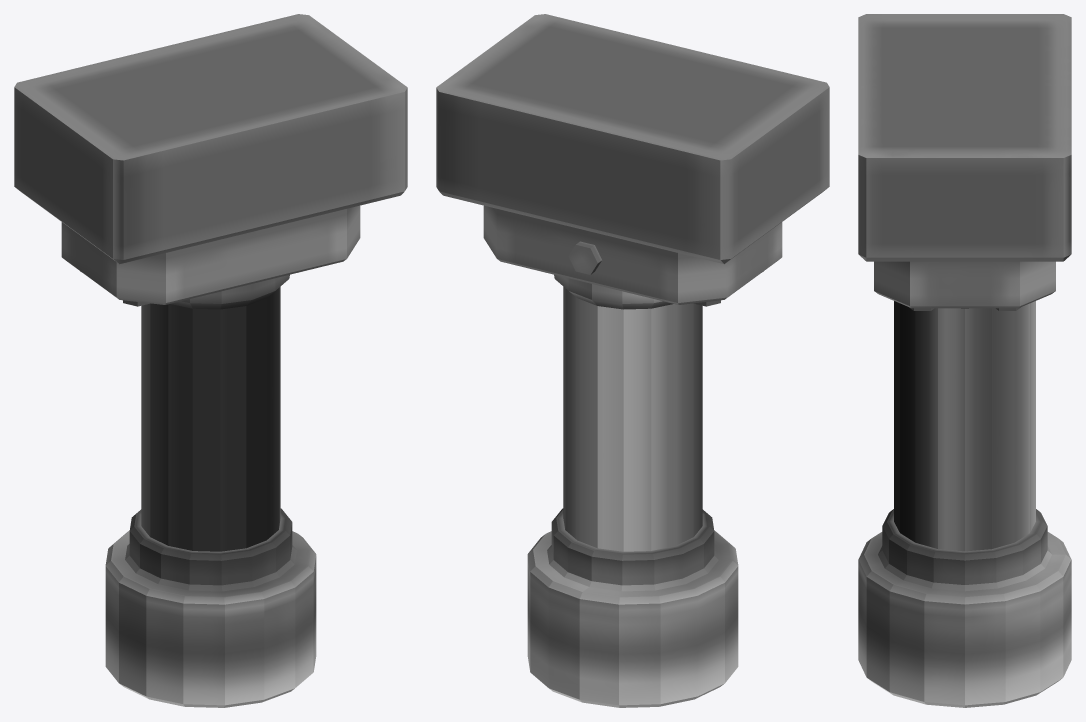
The model's file is crusher_1wide_1.fbx.
3 renders of one model, left to right at view 1: azimuth 30°, elevation 25°; view 2: azimuth 150°, elevation 25°; view 3: azimuth 270°, elevation 25°, orthographic.
Visible parts, largest first — view 1: top1, bottom1, middle1; view 2: top1, bottom1, middle1; view 3: top1, bottom1, middle1.
Part boxes in pixels (box(x1,y1,x2,y2)): top1: box(14, 14, 407, 309); bottom1: box(105, 470, 316, 707); middle1: box(141, 287, 280, 502); top1: box(436, 14, 829, 309); bottom1: box(527, 470, 738, 707); middle1: box(563, 287, 702, 502); top1: box(858, 14, 1071, 310); bottom1: box(858, 473, 1071, 707); middle1: box(894, 301, 1035, 501).
Size of the model in its own units: 1.6 by 3 by 1.
